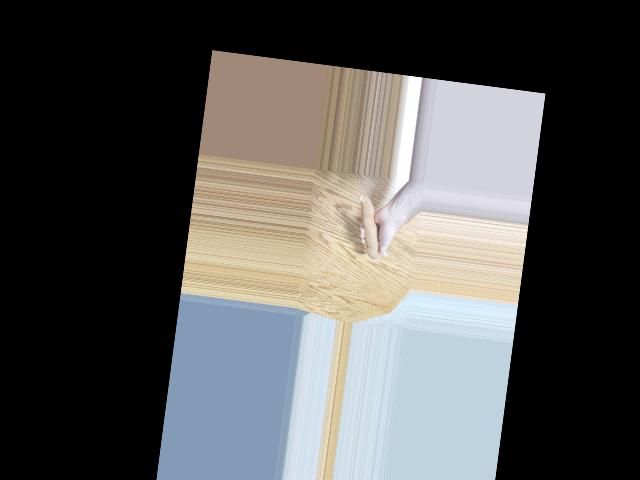sweet_potato: (361, 195, 386, 260)
